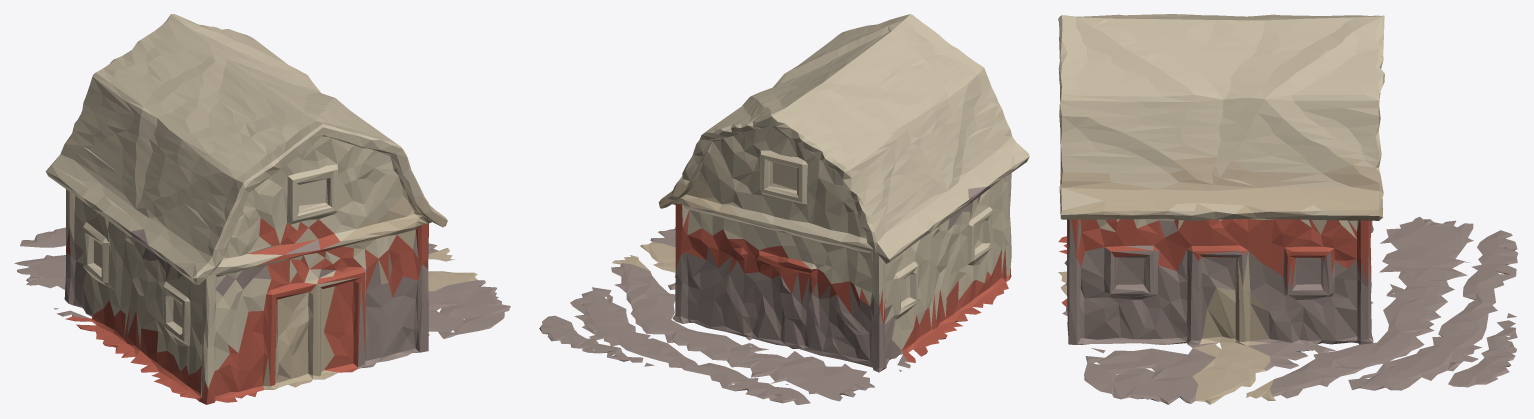
The model's file is barn.glb.
The picture shows the model from 3 angles, left to right: view 1: azimuth 30°, elevation 25°; view 2: azimuth 150°, elevation 25°; view 3: azimuth 270°, elevation 25°; orthographic projection. The views are drawn at different scales.
Visible parts, largest first — view 1: geometry_0; view 2: geometry_0; view 3: geometry_0.
Boxes of the visible parts, x1=… form: geometry_0: x1=14, y1=14, x2=510, y2=404; geometry_0: x1=539, y1=14, x2=1029, y2=404; geometry_0: x1=1058, y1=14, x2=1518, y2=404.
Size of the model in its own units: 1.87 by 1.29 by 1.96.
